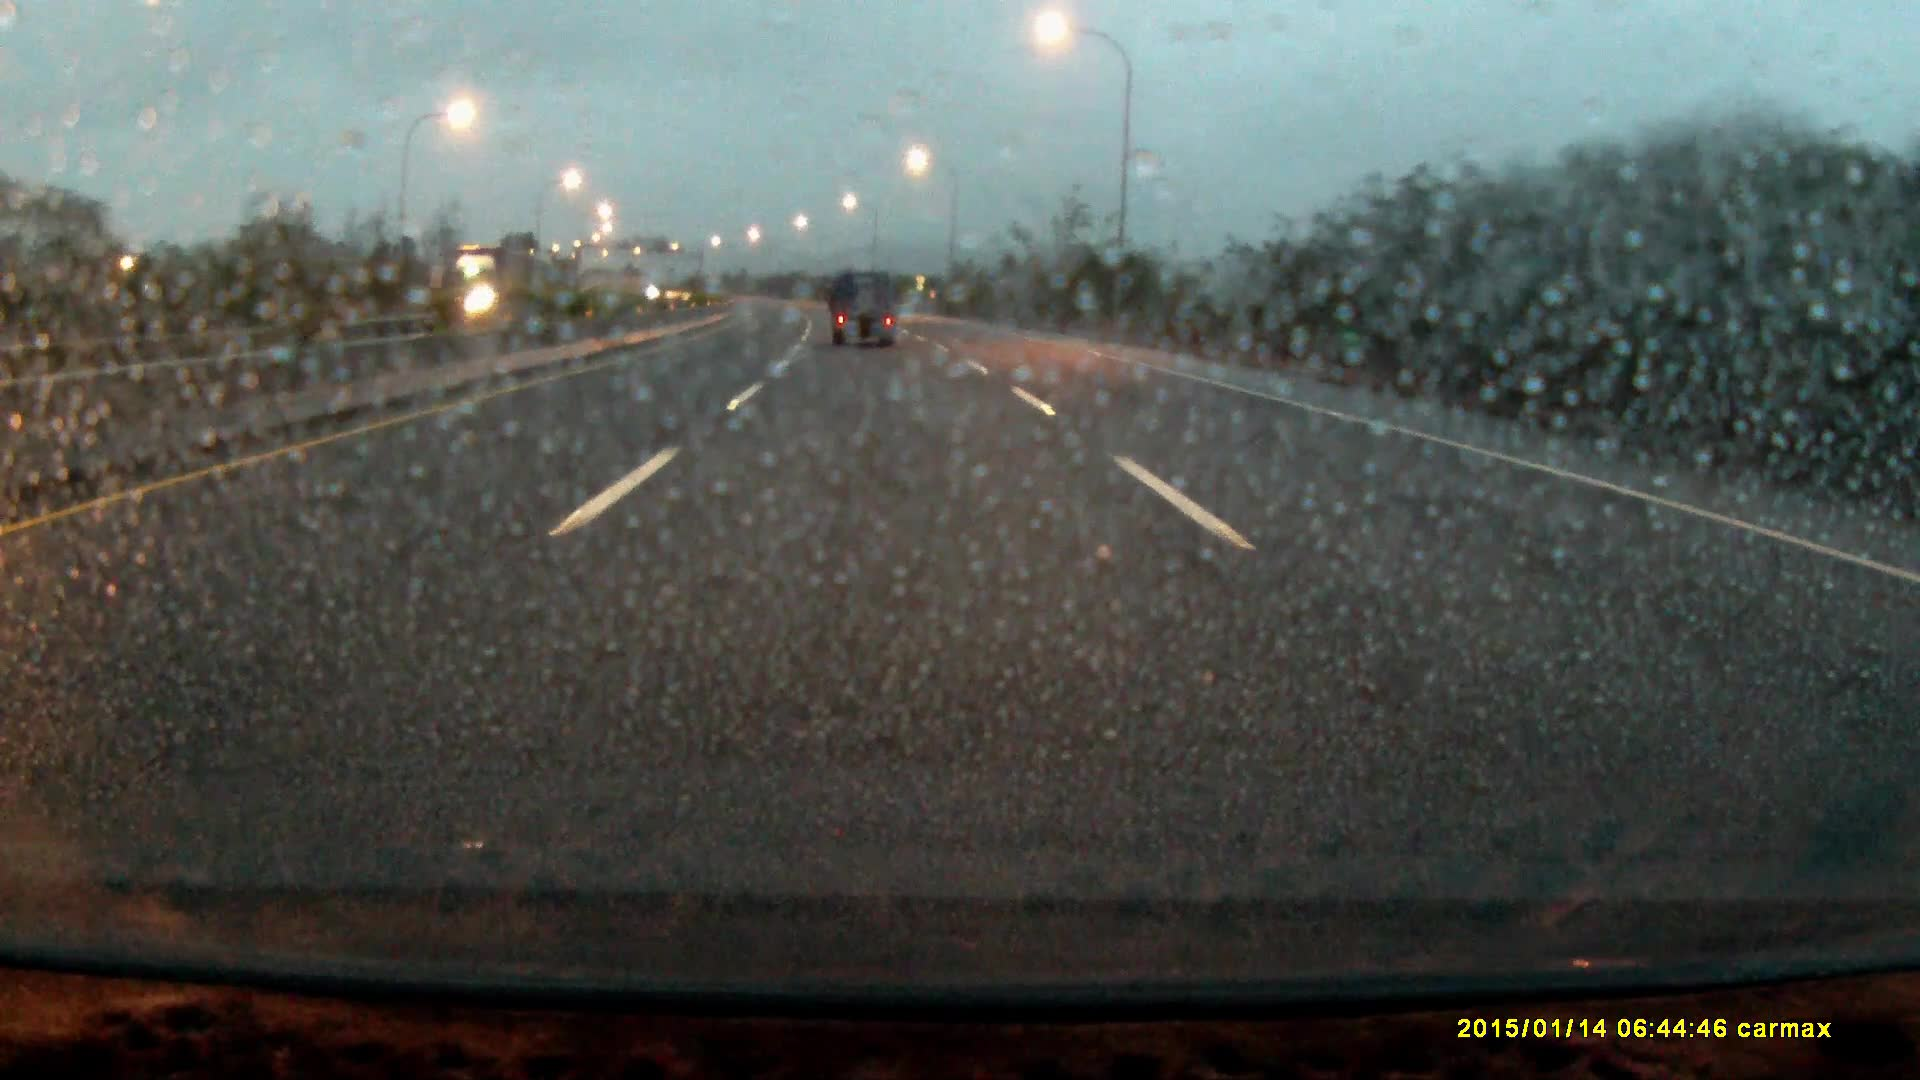vehicle: (434, 245, 545, 332), (831, 272, 902, 351)
